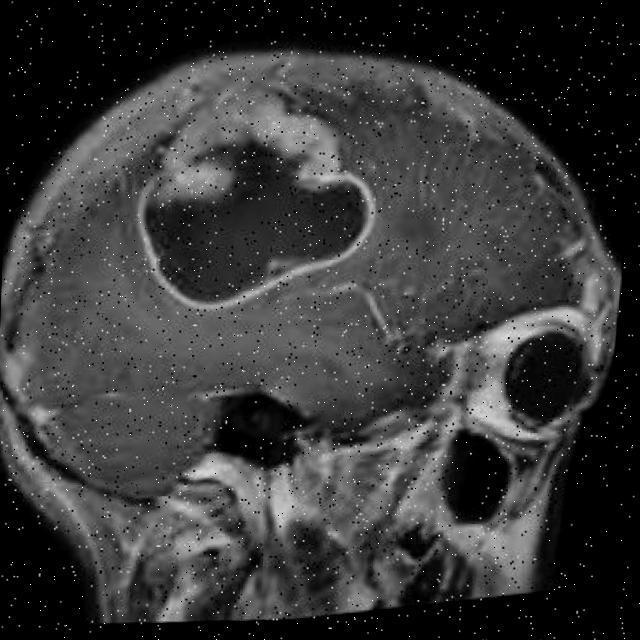EMCI: (102, 69, 393, 221)
